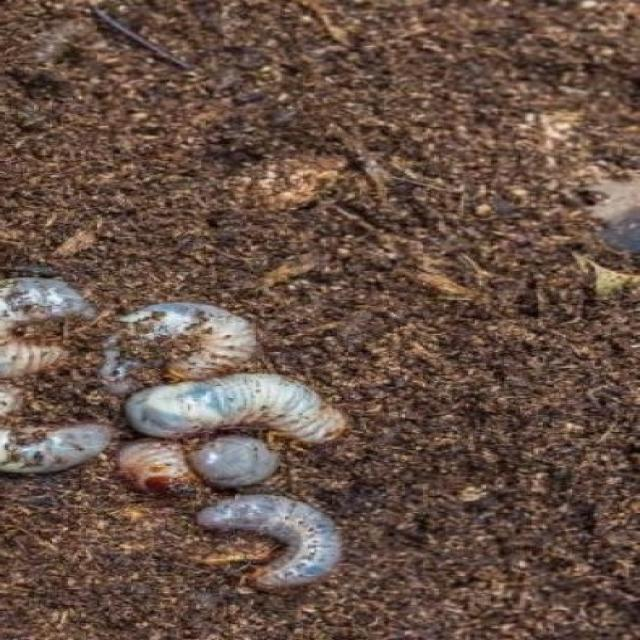grub: (190, 491, 357, 595), (125, 374, 347, 447), (109, 294, 263, 395), (6, 264, 96, 380), (1, 398, 116, 483), (187, 428, 286, 496)
